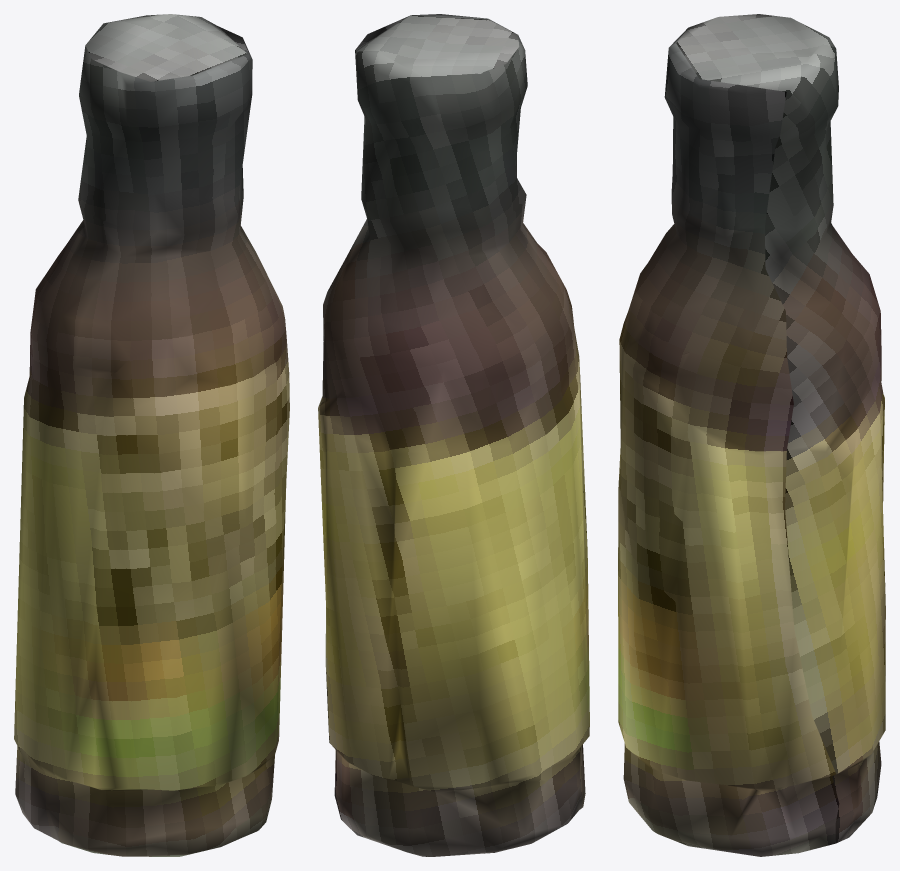
File: Weston_No_22_Cajun_Jerky_Tonic_12_fl_oz_nLj64ZnGwDh-low.glb
3 renders of one model, left to right at view 1: azimuth 30°, elevation 25°; view 2: azimuth 150°, elevation 25°; view 3: azimuth 270°, elevation 25°, orthographic.
Visible parts, largest first — view 1: Weston_No_22_Cajun_Jerky_Tonic_12_fl_oz_nLj64ZnGwDh; view 2: Weston_No_22_Cajun_Jerky_Tonic_12_fl_oz_nLj64ZnGwDh; view 3: Weston_No_22_Cajun_Jerky_Tonic_12_fl_oz_nLj64ZnGwDh.
Boxes of the visible parts, x1=… form: Weston_No_22_Cajun_Jerky_Tonic_12_fl_oz_nLj64ZnGwDh: x1=14, y1=14, x2=289, y2=856; Weston_No_22_Cajun_Jerky_Tonic_12_fl_oz_nLj64ZnGwDh: x1=318, y1=14, x2=589, y2=856; Weston_No_22_Cajun_Jerky_Tonic_12_fl_oz_nLj64ZnGwDh: x1=618, y1=14, x2=885, y2=856.
Size of the model in its own units: 0.0639 by 0.199 by 0.0622.
Materials: 1 (1 with a texture image).
